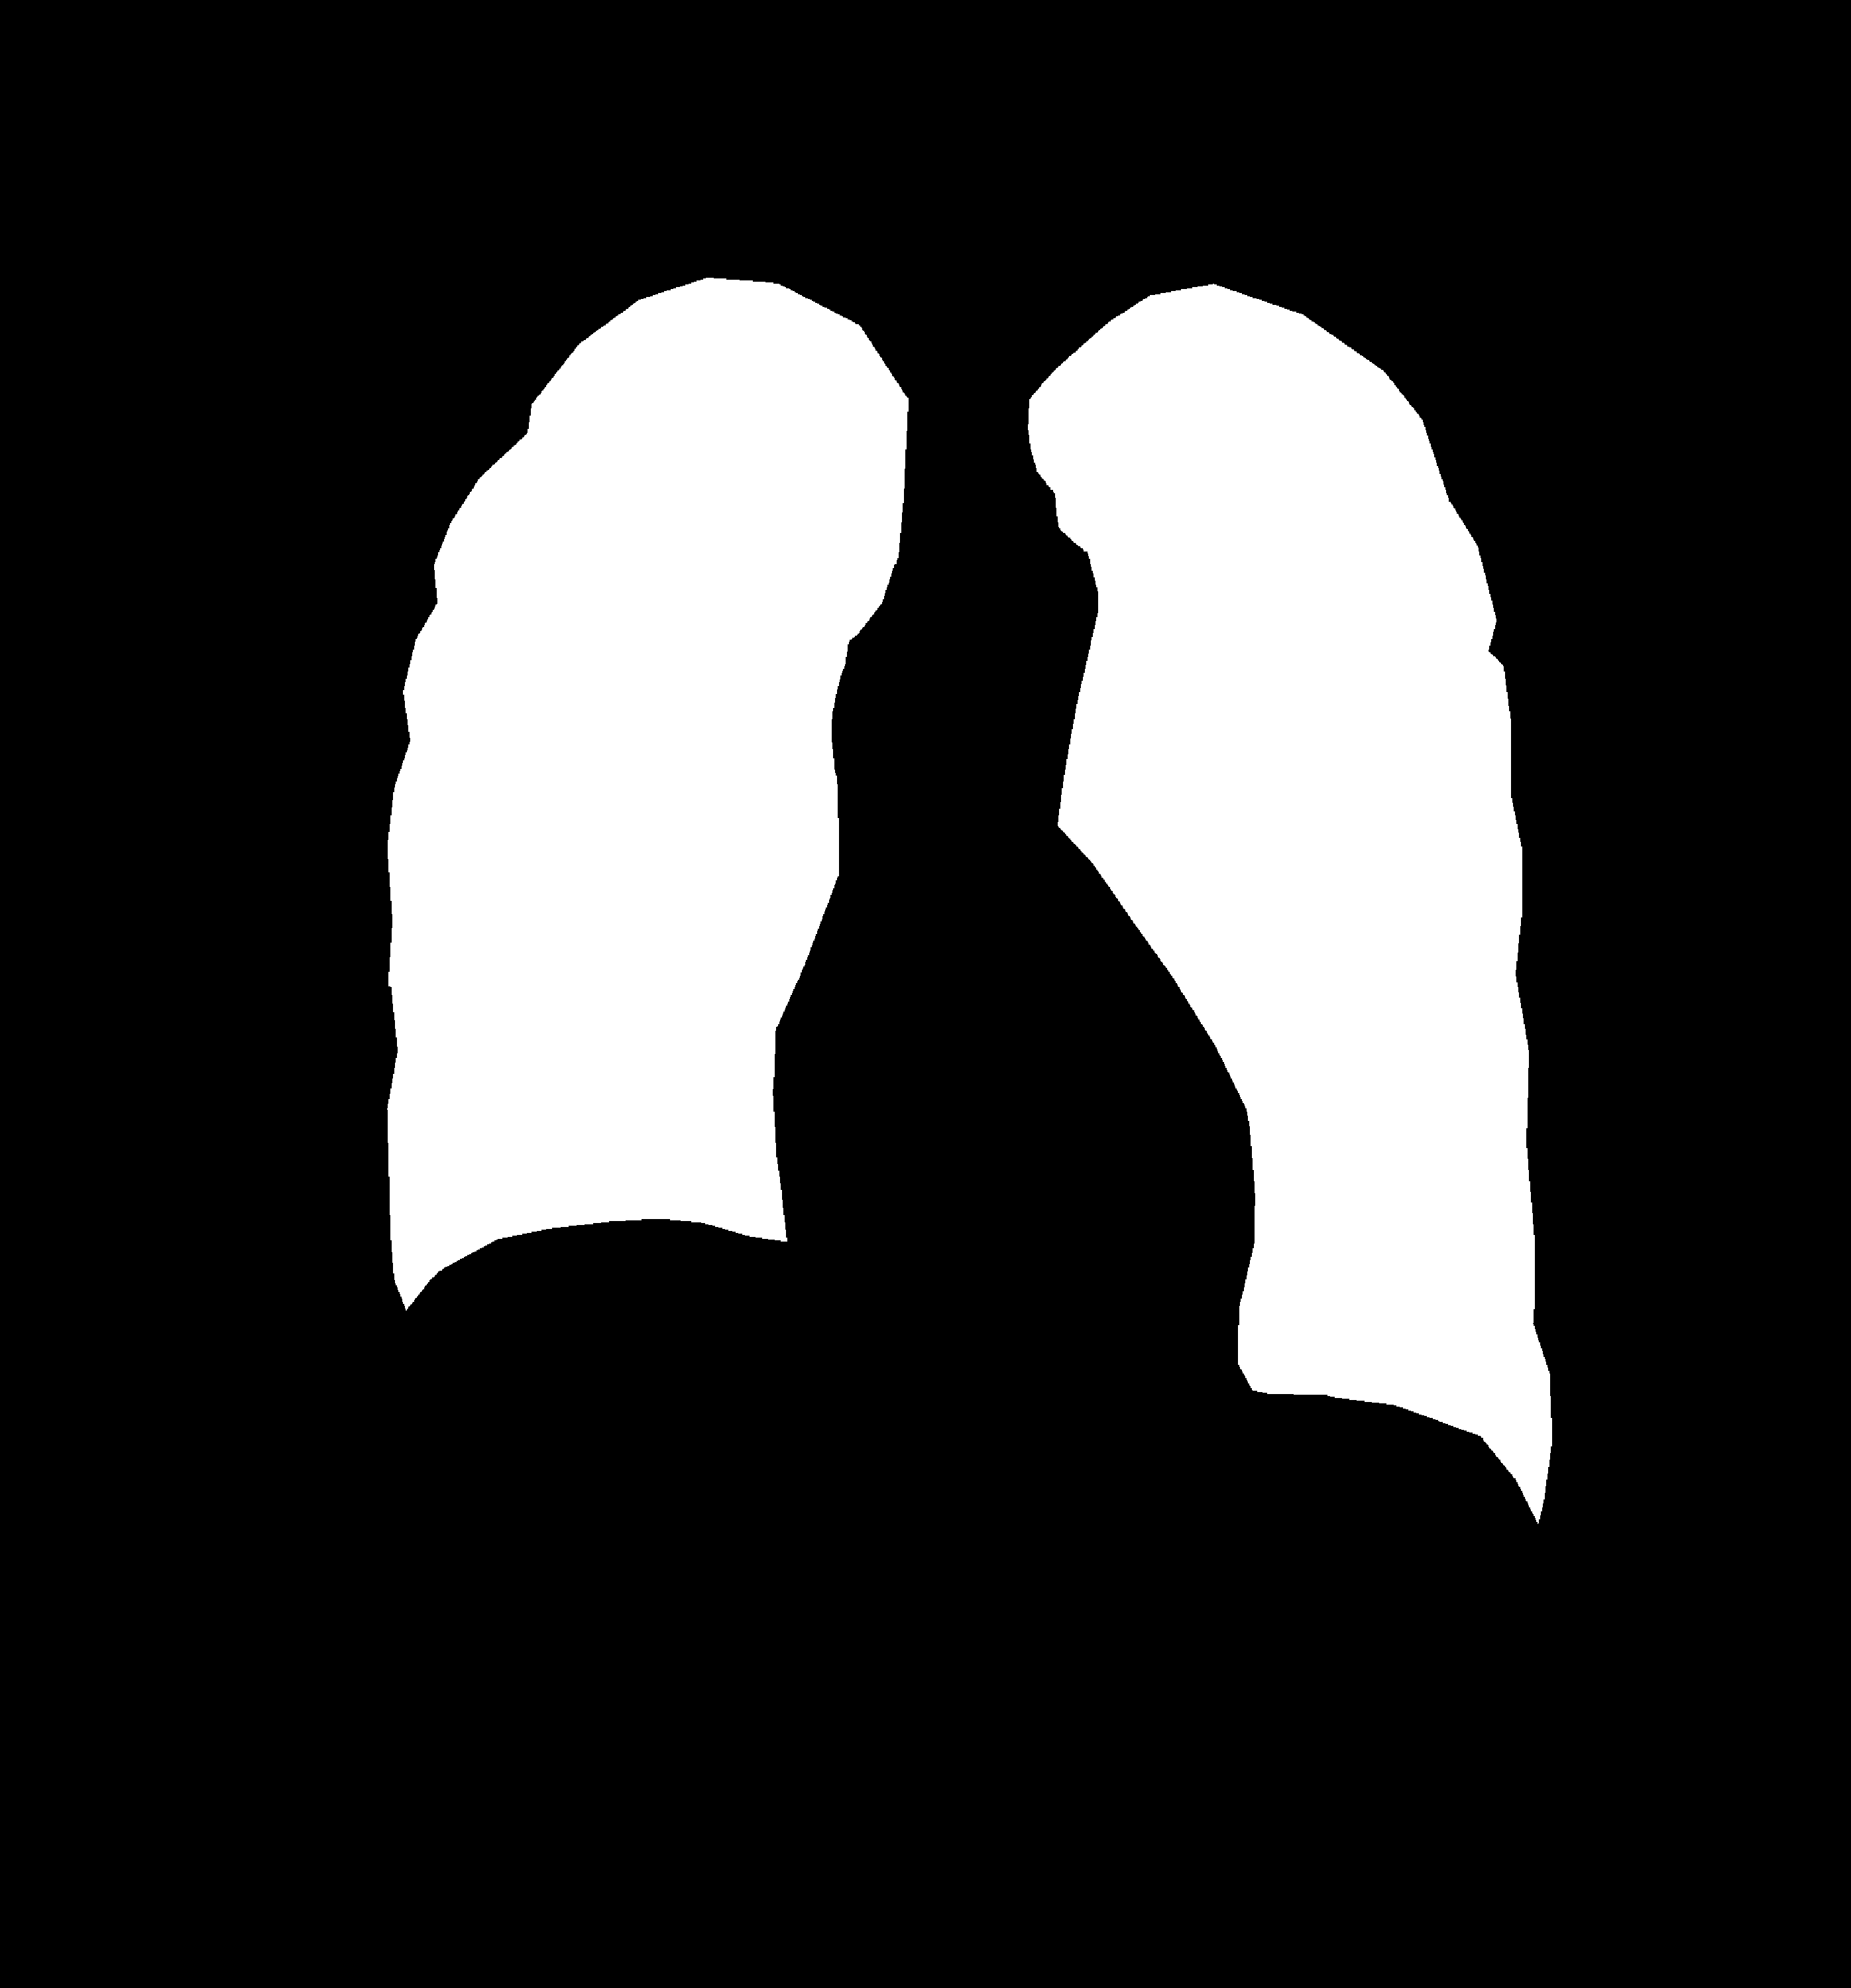heart: (772, 936, 1256, 1365)
left_lung: (386, 278, 908, 1310)
right_lung: (1028, 284, 1552, 1524)
